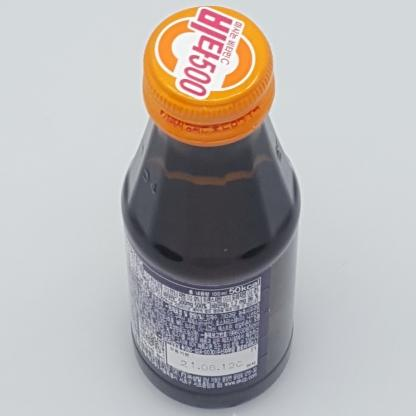-----500---100ML: (121, 5, 300, 409)
